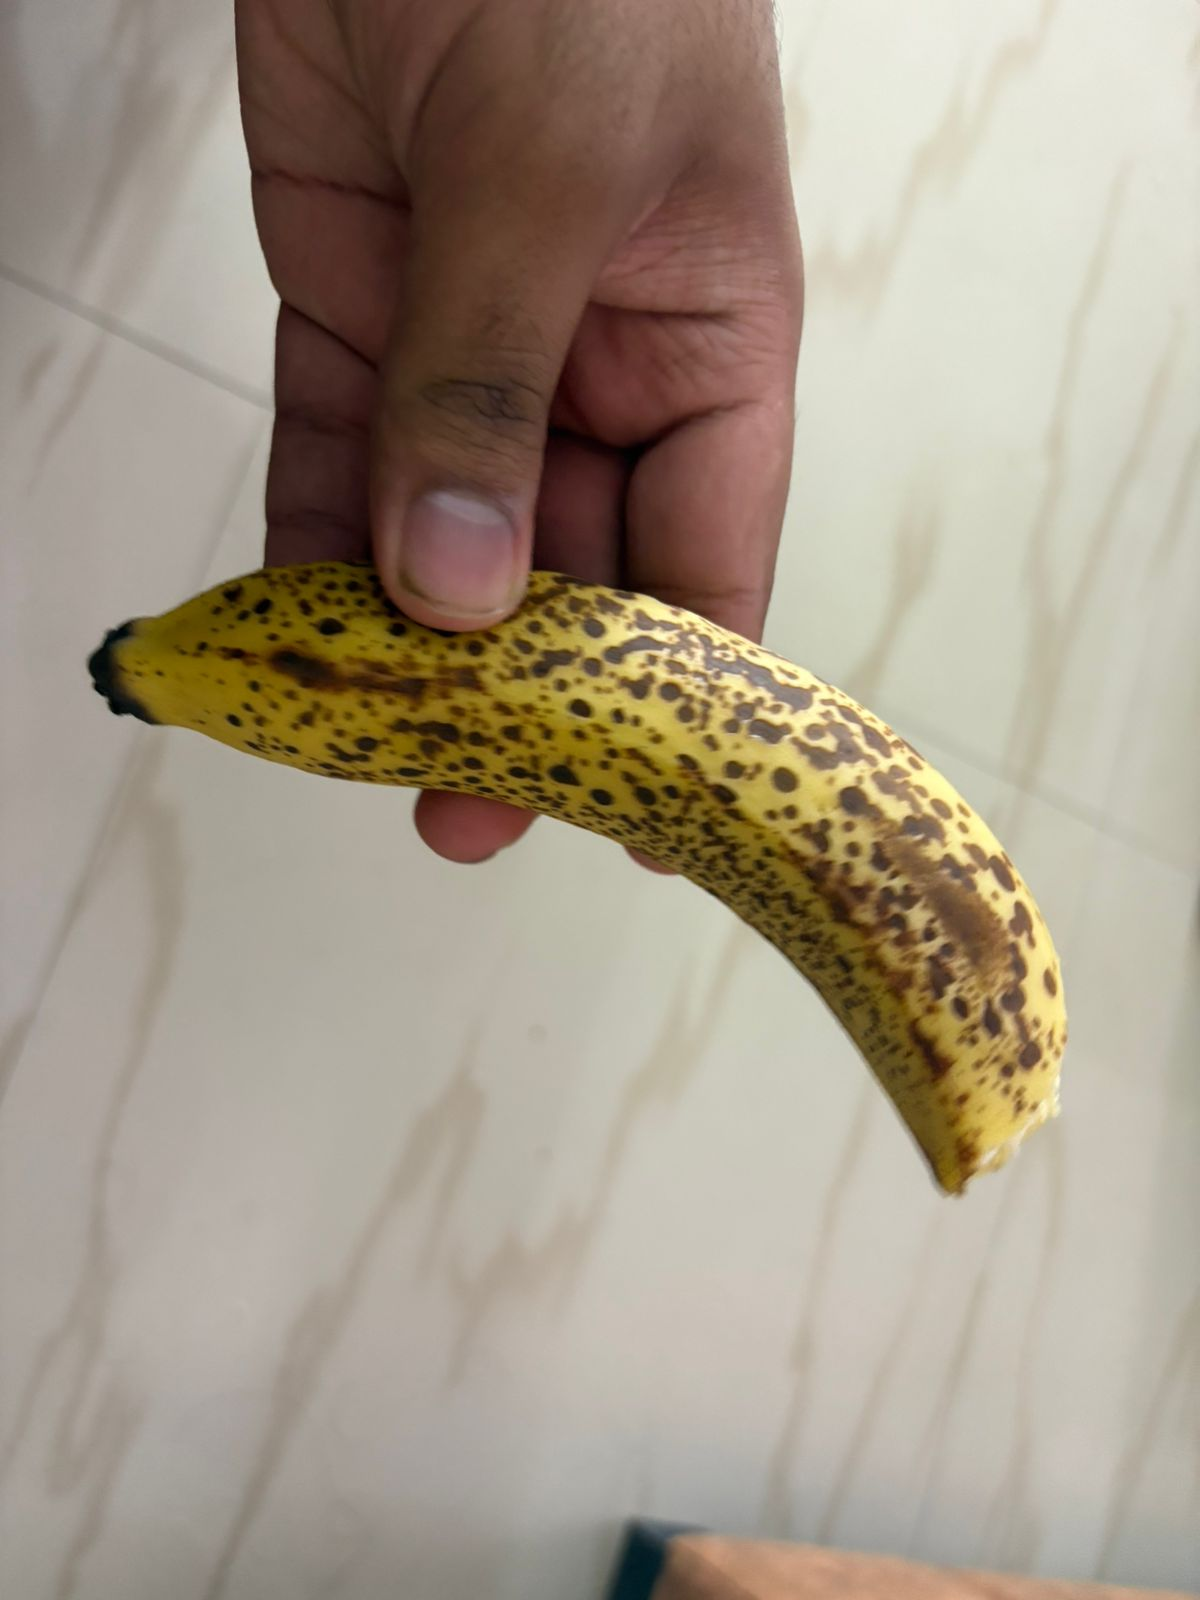wet: (97, 508, 1116, 1220)
